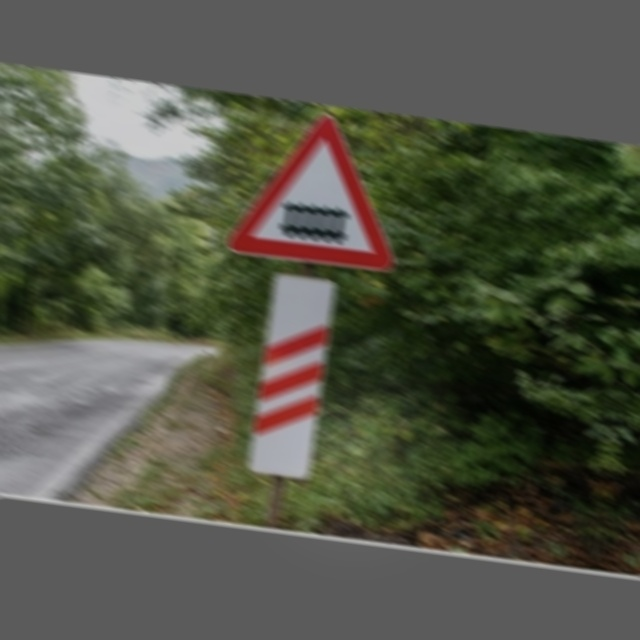Guarded_Level_Crossing: (228, 105, 412, 272)
